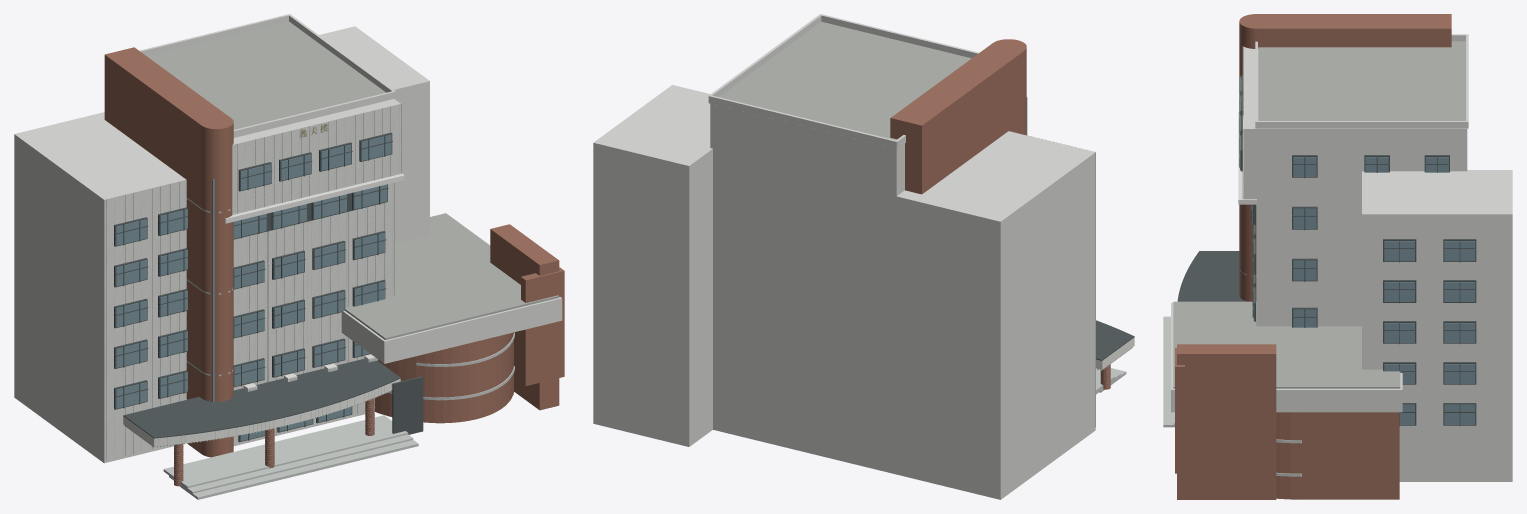
File: buildings-16-medium.glb
The picture shows the model from 3 angles, left to right: view 1: azimuth 30°, elevation 25°; view 2: azimuth 150°, elevation 25°; view 3: azimuth 270°, elevation 25°; orthographic projection. The views are drawn at different scales.
Visible parts, largest first — view 1: 逸夫楼 · Yifu off-white ceramic facade.002, 逸夫楼 · Yifu reddish brown stone.002, 逸夫楼 · Yifu roof membrane.002, 逸夫楼 · Yifu ceramic joints.002, 逸夫楼 · Yifu charcoal window frames.002, 逸夫楼 · Yifu blue grey glass.002, 逸夫楼 · Yifu canopy edges.002; view 2: 逸夫楼 · Yifu off-white ceramic facade.002, 逸夫楼 · Yifu roof membrane.002, 逸夫楼 · Yifu reddish brown stone.002, 逸夫楼 · Yifu charcoal window frames.002, 逸夫楼 · Yifu ceramic joints.002; view 3: 逸夫楼 · Yifu off-white ceramic facade.002, 逸夫楼 · Yifu reddish brown stone.002, 逸夫楼 · Yifu roof membrane.002, 逸夫楼 · Yifu blue grey glass.002, 逸夫楼 · Yifu charcoal window frames.002, 逸夫楼 · Yifu ceramic joints.002, 逸夫楼 · Yifu canopy edges.002.
Part boxes in pixels (x1,y1,x2,y2): 逸夫楼 · Yifu off-white ceramic facade.002: (14, 14, 562, 463); 逸夫楼 · Yifu reddish brown stone.002: (104, 47, 564, 486); 逸夫楼 · Yifu roof membrane.002: (147, 21, 558, 340); 逸夫楼 · Yifu ceramic joints.002: (104, 104, 514, 499); 逸夫楼 · Yifu charcoal window frames.002: (114, 132, 423, 442); 逸夫楼 · Yifu blue grey glass.002: (116, 134, 391, 441); 逸夫楼 · Yifu canopy edges.002: (123, 173, 404, 446); 逸夫楼 · Yifu off-white ceramic facade.002: (593, 14, 1095, 499); 逸夫楼 · Yifu roof membrane.002: (719, 21, 971, 140); 逸夫楼 · Yifu reddish brown stone.002: (890, 39, 1110, 389); 逸夫楼 · Yifu charcoal window frames.002: (1096, 320, 1134, 360); 逸夫楼 · Yifu ceramic joints.002: (1011, 131, 1132, 427); 逸夫楼 · Yifu off-white ceramic facade.002: (1171, 34, 1512, 481); 逸夫楼 · Yifu reddish brown stone.002: (1175, 14, 1451, 499); 逸夫楼 · Yifu roof membrane.002: (1173, 41, 1465, 388); 逸夫楼 · Yifu blue grey glass.002: (1240, 77, 1475, 424); 逸夫楼 · Yifu charcoal window frames.002: (1177, 75, 1476, 425); 逸夫楼 · Yifu ceramic joints.002: (1163, 46, 1301, 476); 逸夫楼 · Yifu canopy edges.002: (1238, 112, 1256, 204).
Bounding box in the file's own units: 31.2 × 24.2 × 23.2.
